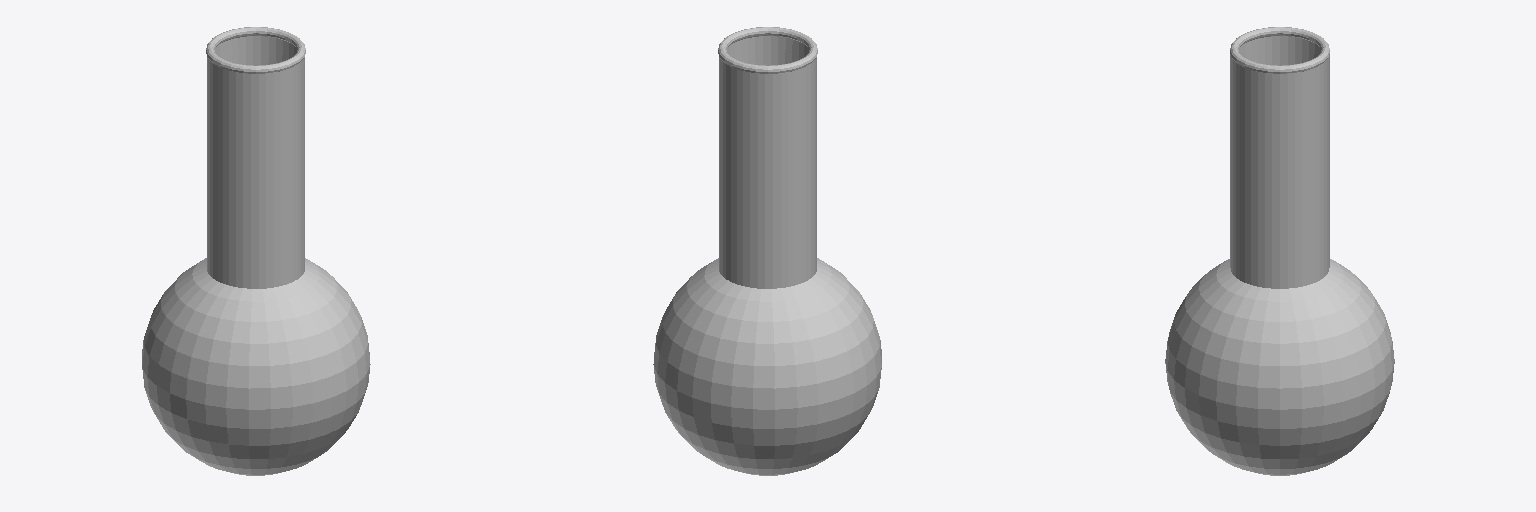
Rendered from колба.obj.
The picture shows the model from 3 angles: view 1: azimuth 30°, elevation 25°; view 2: azimuth 150°, elevation 25°; view 3: azimuth 270°, elevation 25°; orthographic projection.
Visible parts, largest first — view 1: Sphere001, Cylinder001, Torus001; view 2: Sphere001, Cylinder001, Torus001; view 3: Sphere001, Cylinder001, Torus001.
Part boxes in pixels (x1,y1,x2,y2): Sphere001: (142,258,370,475); Cylinder001: (207,36,304,288); Torus001: (206,27,305,73); Sphere001: (653,258,881,475); Cylinder001: (719,36,816,288); Torus001: (718,27,817,73); Sphere001: (1165,259,1394,475); Cylinder001: (1230,36,1329,288); Torus001: (1230,27,1329,73).
Bounding box in the file's own units: 100 × 201 × 100.